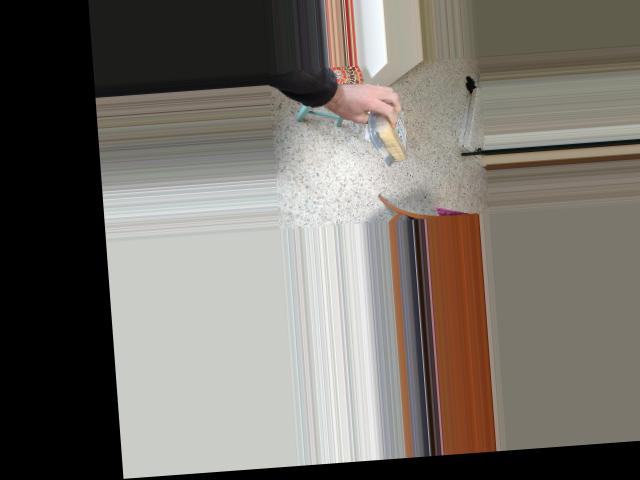cheese: (371, 99, 409, 167)
